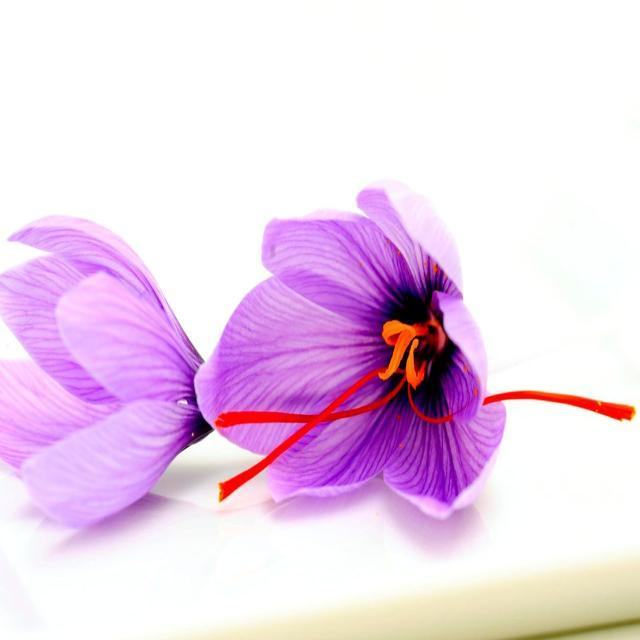Flower: (192, 182, 508, 519), (0, 216, 205, 530)
stigma: (217, 367, 406, 502), (211, 377, 410, 432), (484, 392, 634, 422)
